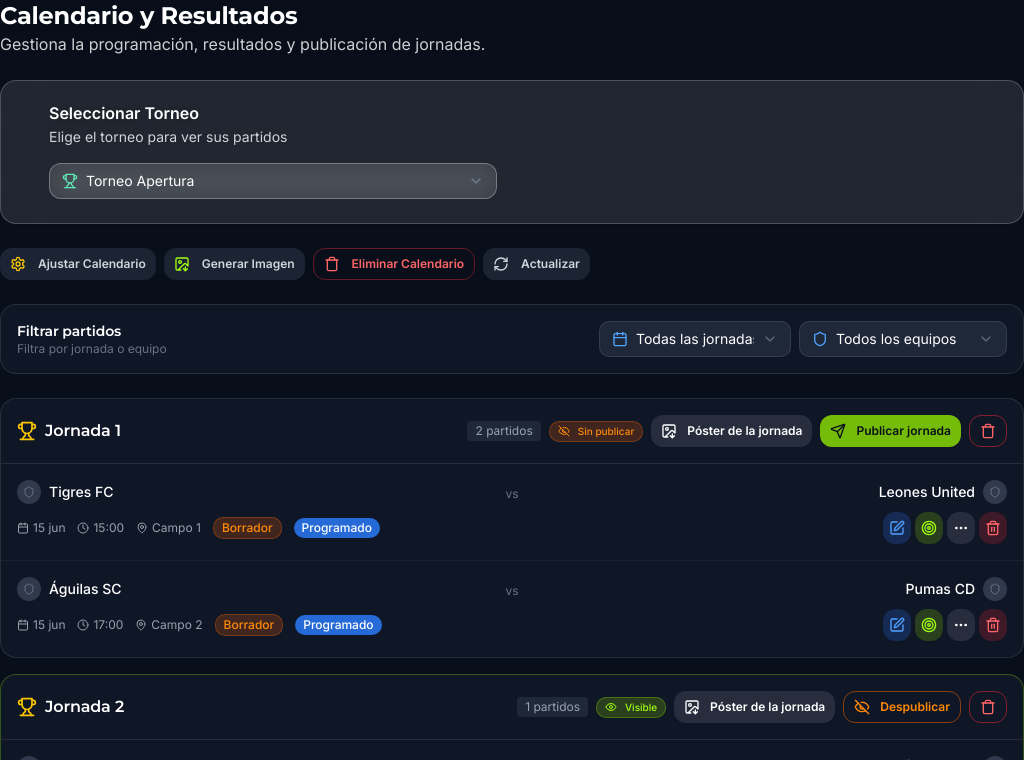
delete round › keeps the dialog open and shows the API message when deleting fails
This screenshot has width=1024, height=760.
Click the button named "Eliminar jornada" in the row of "Sin publicar" at {"x": 988, "y": 431}, box top-left (969, 415), bottom-right (1007, 447)
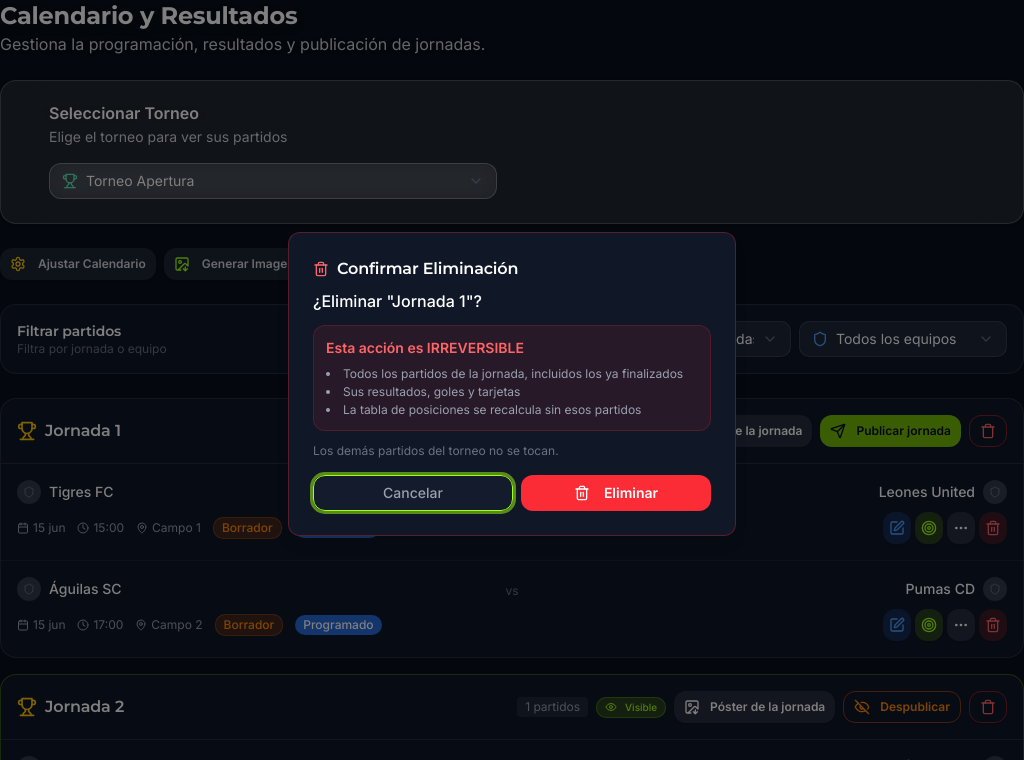
Click the button "Eliminar" at {"x": 616, "y": 493}, box top-left (521, 475), bottom-right (711, 511)
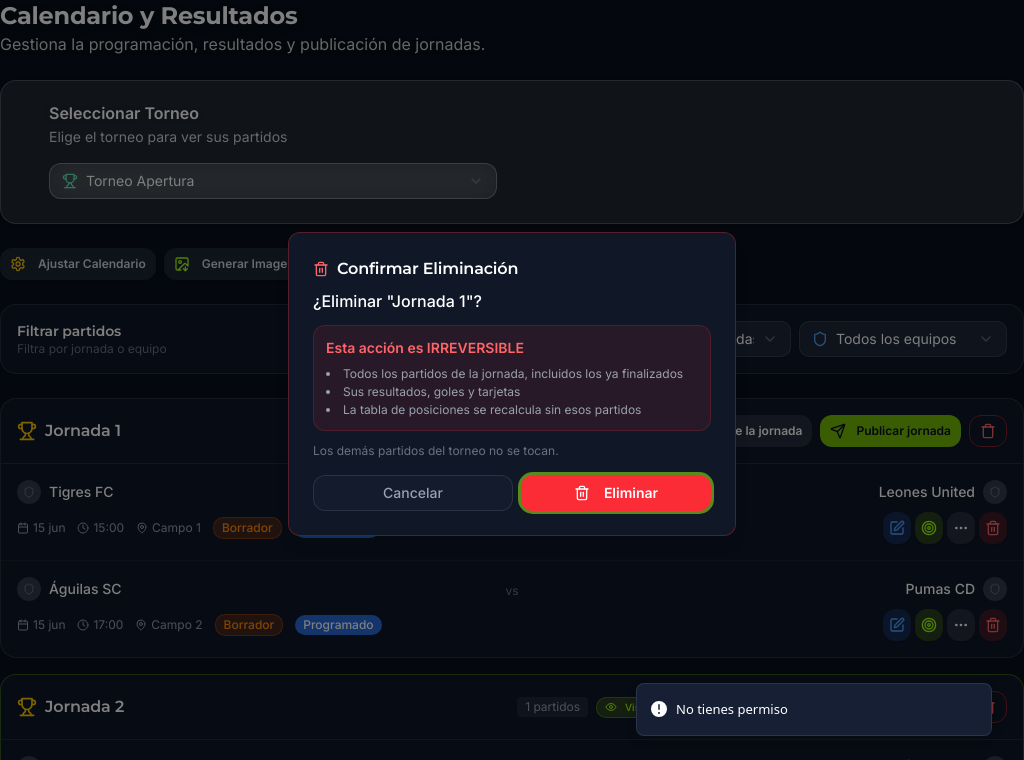
Expected: the dialog is shown, top-left (288, 232), bottom-right (736, 536)
Expected: the text "No tienes permiso" is shown, top-left (676, 700), bottom-right (788, 719)
